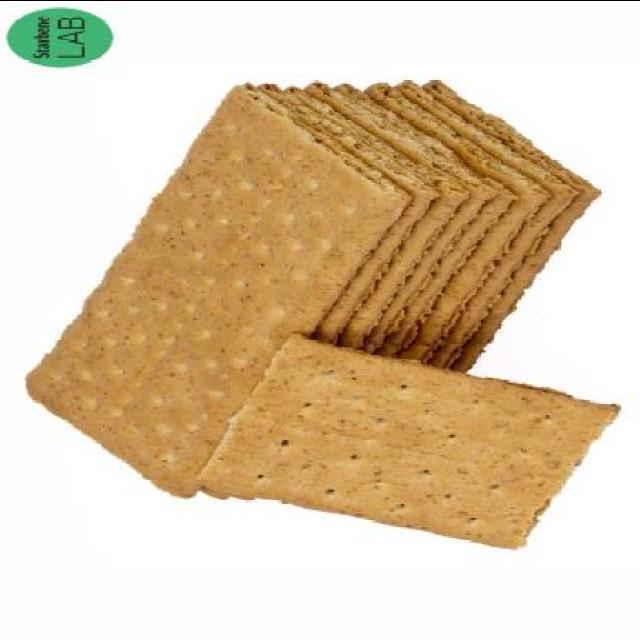Cracker packaged: (192, 327, 612, 555)
